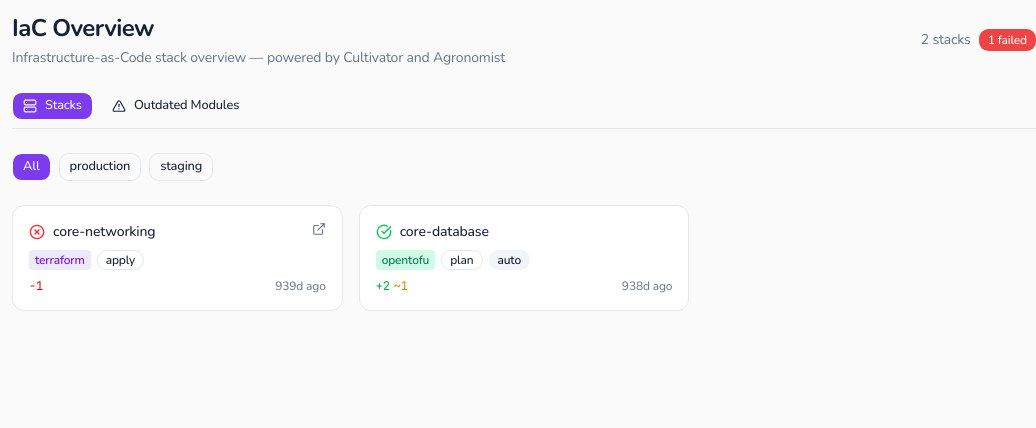
Test: IacDashboardClient › shows empty state in drift view when no records
The width and height of the screenshot is (1036, 428).
Expected: the text "core-networking" is shown, [53, 222, 155, 242]
Click the button "Outdated Modules" at x=176, y=106, box [101, 92, 250, 120]
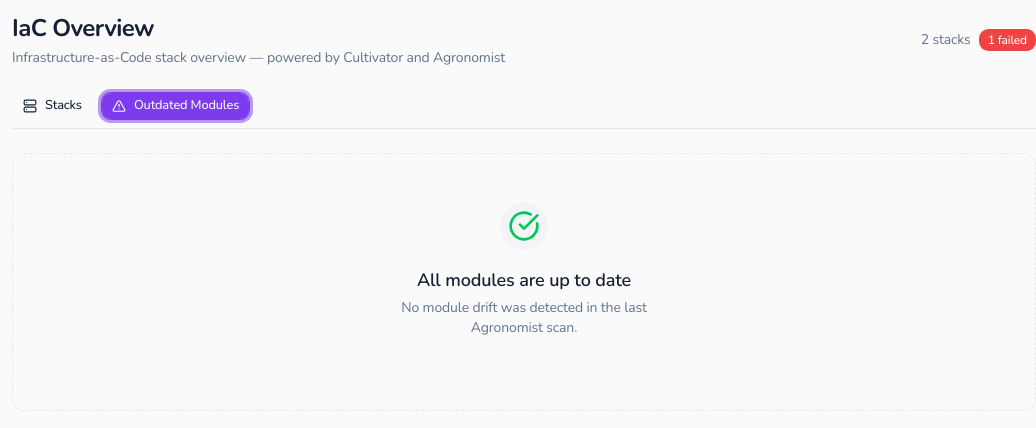
Expected: the heading "All modules are up to date" is shown, [417, 266, 631, 294]
